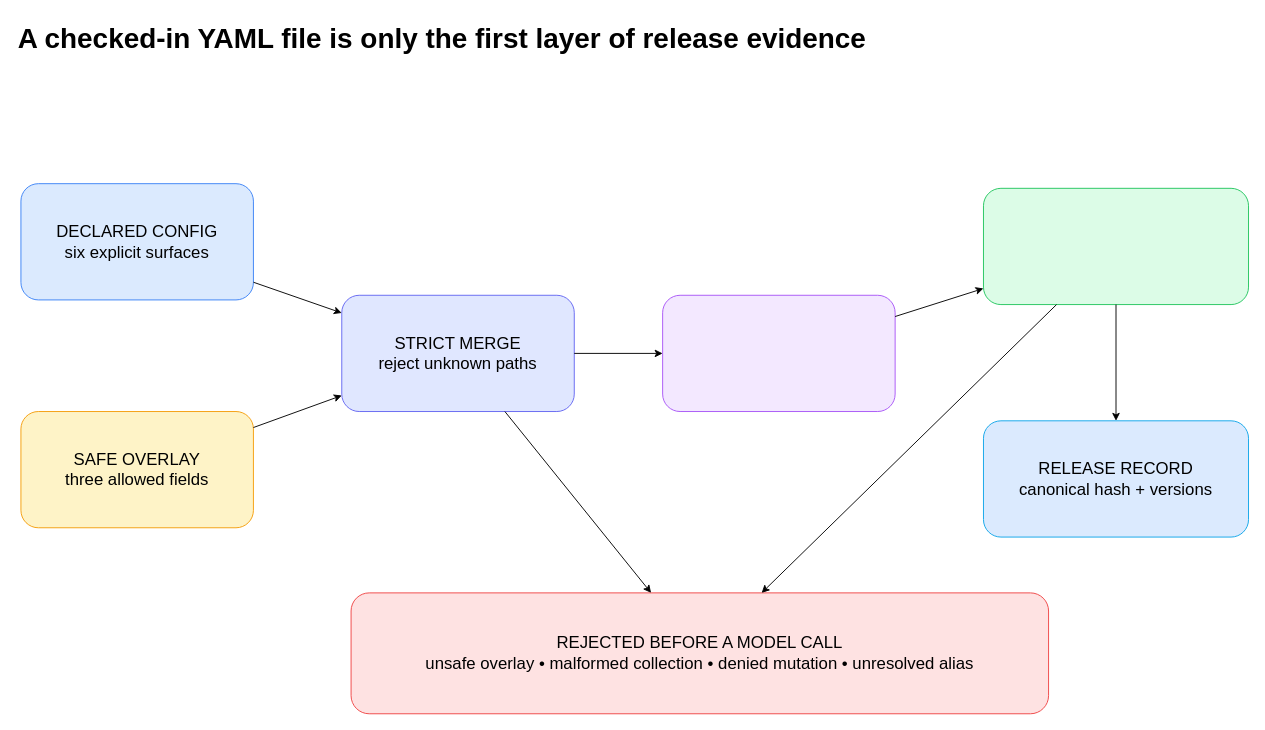
The diagram is 1265 pixels wide and 730 high, and some of its shapes have lost their labels. The shapes that lost their labels are listed below. From the top down, each one's box as (x1, y1, x2, y2) in pixels, then its label:
(983, 187, 1249, 305): VALIDATE CONTRACT schema + cross-field policy
(662, 294, 895, 412): BIND REFERENCES exact component versions
